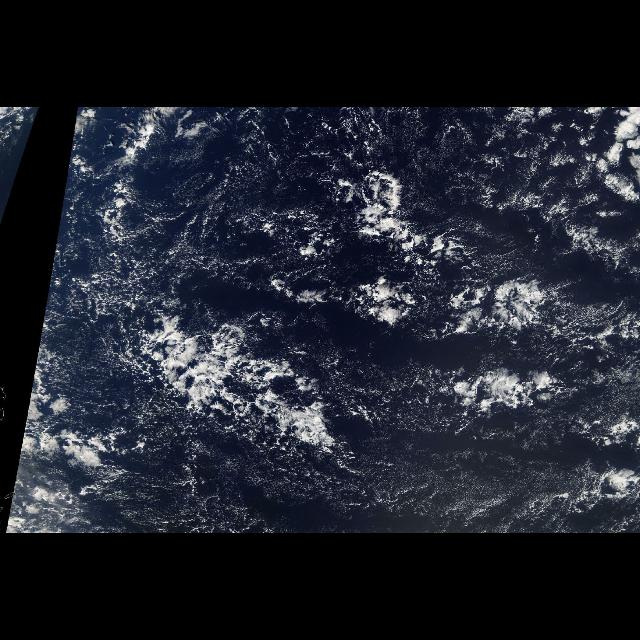Sugar: (340, 406, 598, 532), (82, 160, 296, 302)
